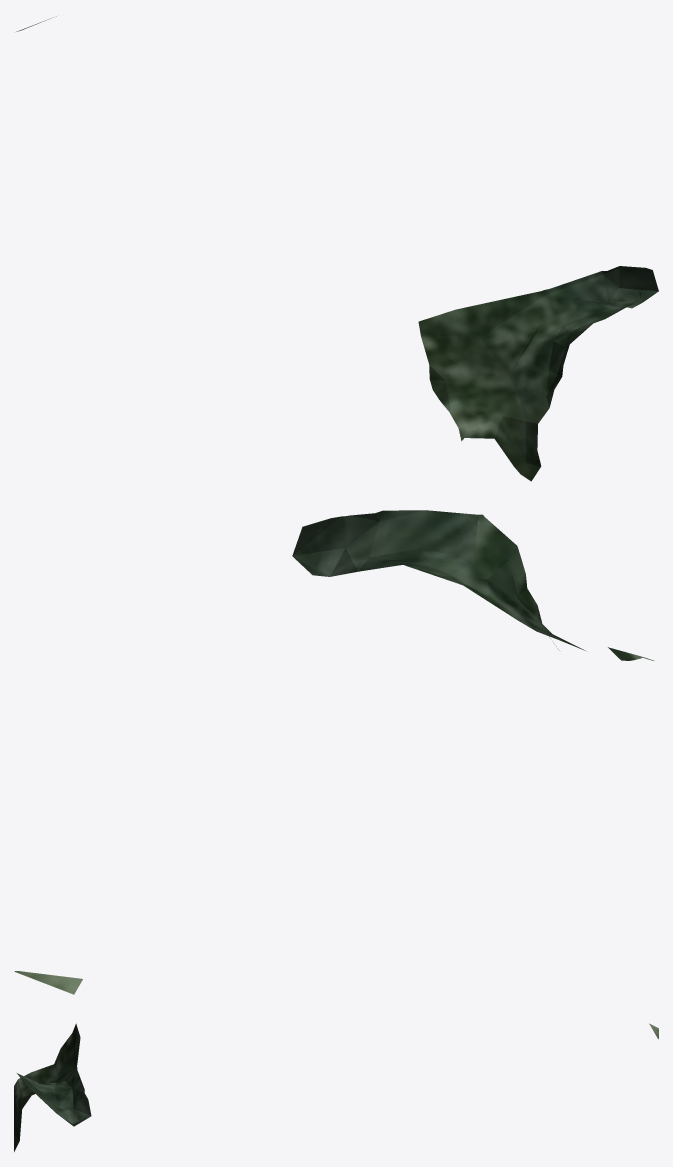
3 views of the same model, one above another, from view 1: azimuth 30°, elevation 25°; view 2: azimuth 150°, elevation 25°; view 3: azimuth 270°, elevation 25° (orthographic). The views are drawn at different scales.
Size of the model in its own units: 1.82 by 1.06 by 5.9.
1 material, 1 textured.
